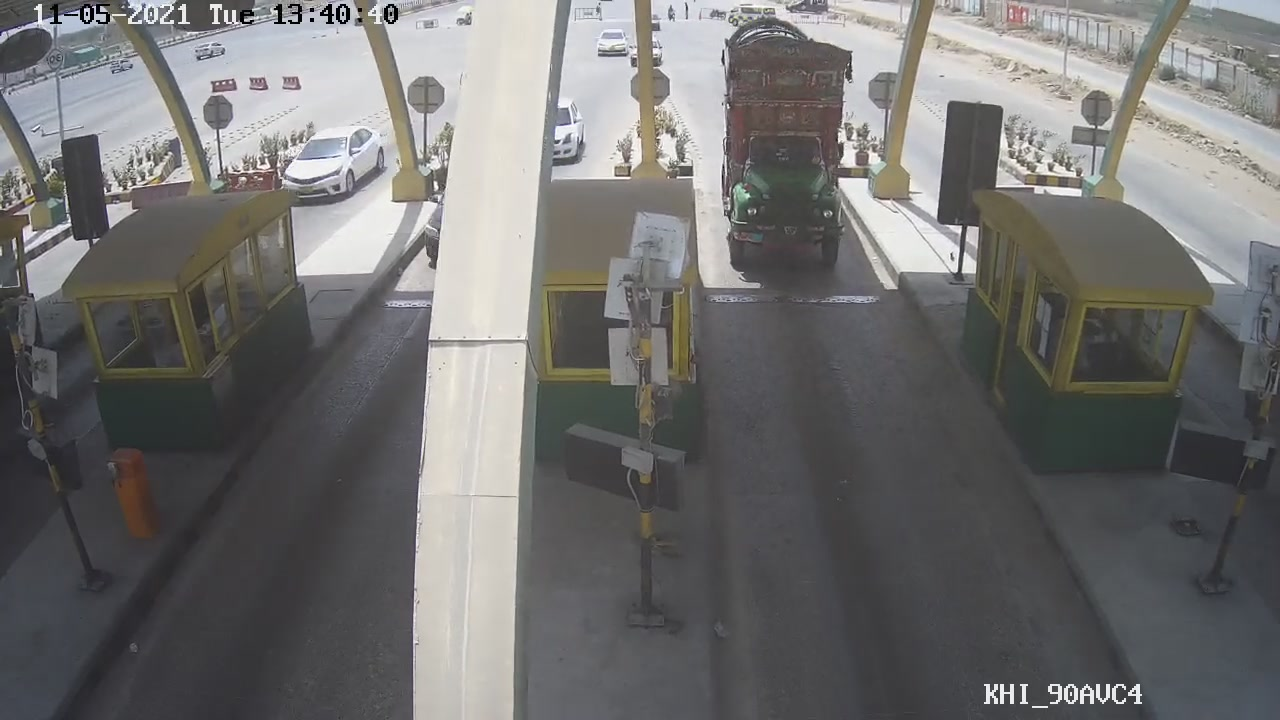F5: (704, 12, 898, 278)
